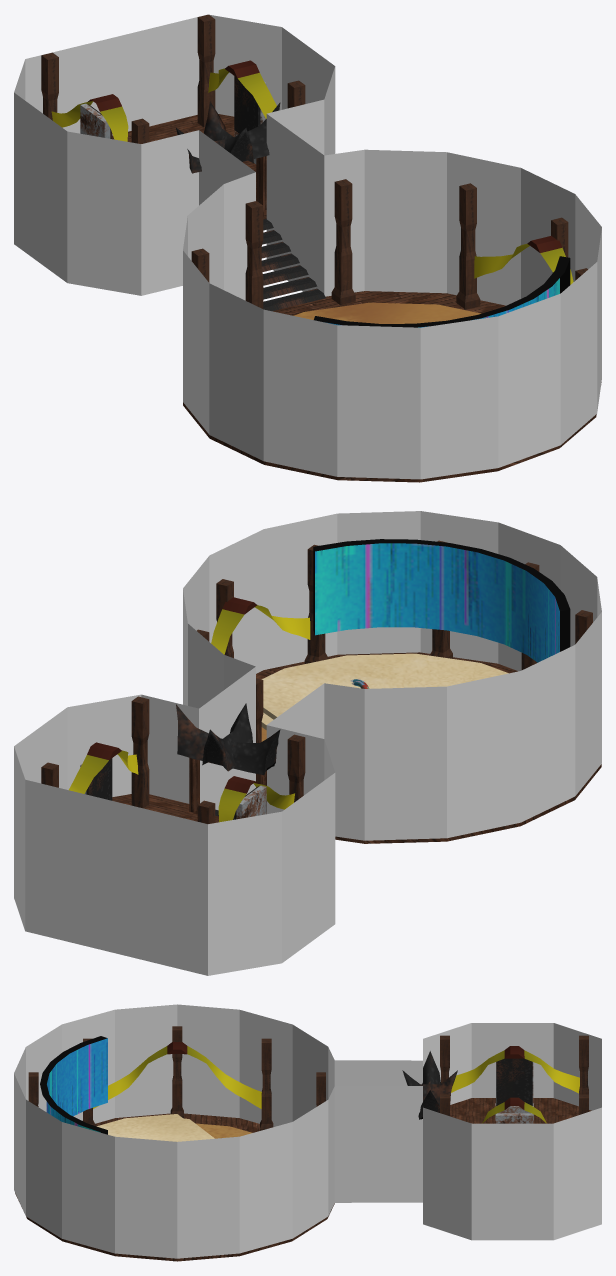
File: TP_Environment.fbx
3 renders of one model, top to bottom at view 1: azimuth 30°, elevation 25°; view 2: azimuth 150°, elevation 25°; view 3: azimuth 270°, elevation 25°, orthographic. The views are drawn at different scales.
Visible parts, largest first — view 1: TP_EdgeBarrier, TP_Stage02, TP_Stair, TP_Stage03, TP_Gerbang, TP_Pillar.009, TP_Pillar.008, TP_InfoCurve01, TP_Pillar, TP_Pillar.013, TP_Langsir01.001, TP_Langsir01.003 (+5 smaller); view 2: TP_EdgeBarrier, TP_InfoCurve01, TP_Stage03, TP_Gerbang, TP_Pillar.011, TP_Langsir01.003, TP_Stage02, TP_Langsir01.001, TP_Langsir01, TP_Pillar.010, TP_Pillar.006, TP_Stage01 (+3 smaller); view 3: TP_EdgeBarrier, TP_InfoCurve01, TP_Stage03, TP_Stage02, TP_Stage01, TP_Langsir01.002, TP_infopanelV1, TP_Langsir01, TP_Gerbang, TP_Pillar.001, TP_Pillar.002, TP_Pillar.012 (+4 smaller).
Boxes of the visible parts, <box> form: TP_EdgeBarrier: <box>14,14,601,479</box>; TP_Stage02: <box>183,291,601,482</box>; TP_Stair: <box>261,219,325,311</box>; TP_Stage03: <box>293,302,480,323</box>; TP_Gerbang: <box>176,101,280,210</box>; TP_Pillar.009: <box>331,179,355,304</box>; TP_Pillar.008: <box>456,183,480,309</box>; TP_InfoCurve01: <box>314,256,570,327</box>; TP_Pillar: <box>245,201,263,308</box>; TP_Pillar.013: <box>197,14,215,127</box>; TP_Langsir01.001: <box>208,60,276,118</box>; TP_Langsir01.003: <box>474,236,573,284</box>; TP_EdgeBarrier: <box>14,511,601,975</box>; TP_InfoCurve01: <box>313,539,570,662</box>; TP_Stage03: <box>261,653,508,741</box>; TP_Gerbang: <box>176,703,280,813</box>; TP_Pillar.011: <box>131,696,149,808</box>; TP_Langsir01.003: <box>211,597,310,654</box>; TP_Stage02: <box>256,652,601,843</box>; TP_Langsir01.001: <box>69,742,138,793</box>; TP_Langsir01: <box>218,776,294,822</box>; TP_Pillar.010: <box>287,734,305,802</box>; TP_Pillar.006: <box>304,544,328,663</box>; TP_Stage01: <box>112,794,218,822</box>; TP_EdgeBarrier: <box>14,1004,601,1258</box>; TP_InfoCurve01: <box>40,1036,107,1134</box>; TP_Stage03: <box>97,1114,252,1141</box>; TP_Stage02: <box>15,1113,334,1261</box>; TP_Stage01: <box>450,1098,591,1123</box>; TP_Langsir01.002: <box>93,1042,261,1108</box>; TP_infopanelV1: <box>495,1058,533,1120</box>; TP_Langsir01: <box>451,1046,579,1093</box>; TP_Gerbang: <box>402,1051,457,1119</box>; TP_Pillar.001: <box>260,1038,273,1130</box>; TP_Pillar.002: <box>170,1026,183,1118</box>; TP_Pillar.012: <box>579,1035,588,1094</box>.
Size of the model in its own units: 3279 by 1401 by 5929.
